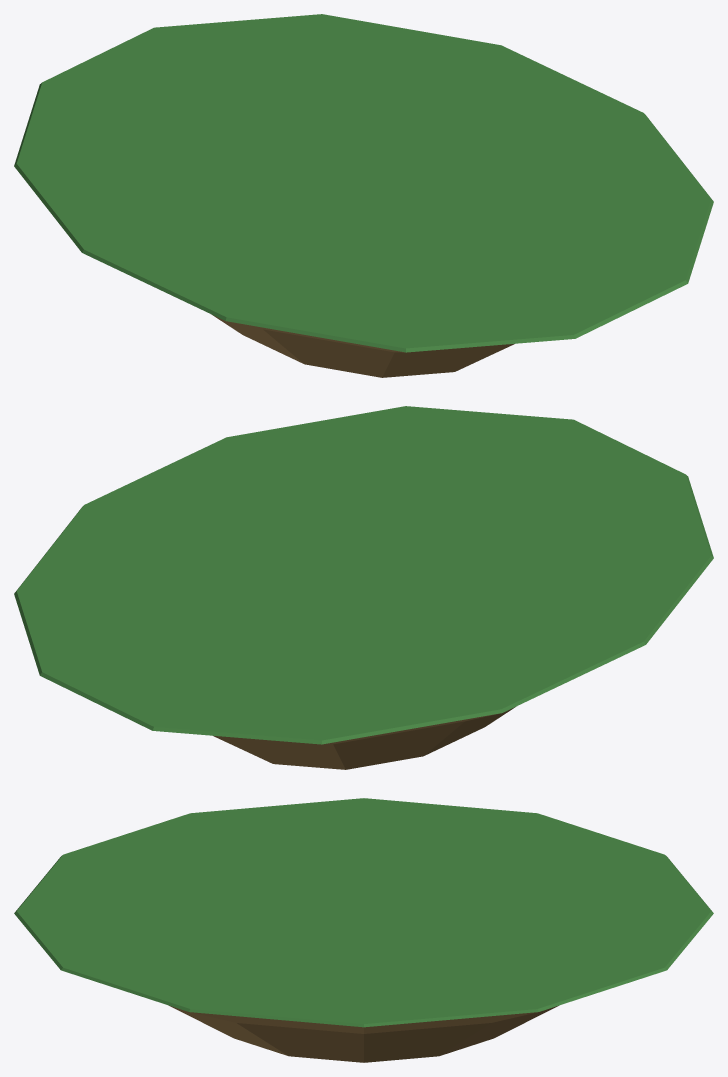
File: Level2Base.fbx
The picture shows the model from 3 angles, top to bottom: view 1: azimuth 30°, elevation 25°; view 2: azimuth 150°, elevation 25°; view 3: azimuth 270°, elevation 25°; orthographic projection. The views are drawn at different scales.
Visible parts, largest first — view 1: Cylinder; view 2: Cylinder; view 3: Cylinder.
Boxes of the visible parts, bbox=[...] form: Cylinder: bbox=[14, 14, 713, 377]; Cylinder: bbox=[14, 406, 713, 769]; Cylinder: bbox=[14, 798, 713, 1062].
Bounding box in the file's own units: 18200 × 3830 × 23639.
